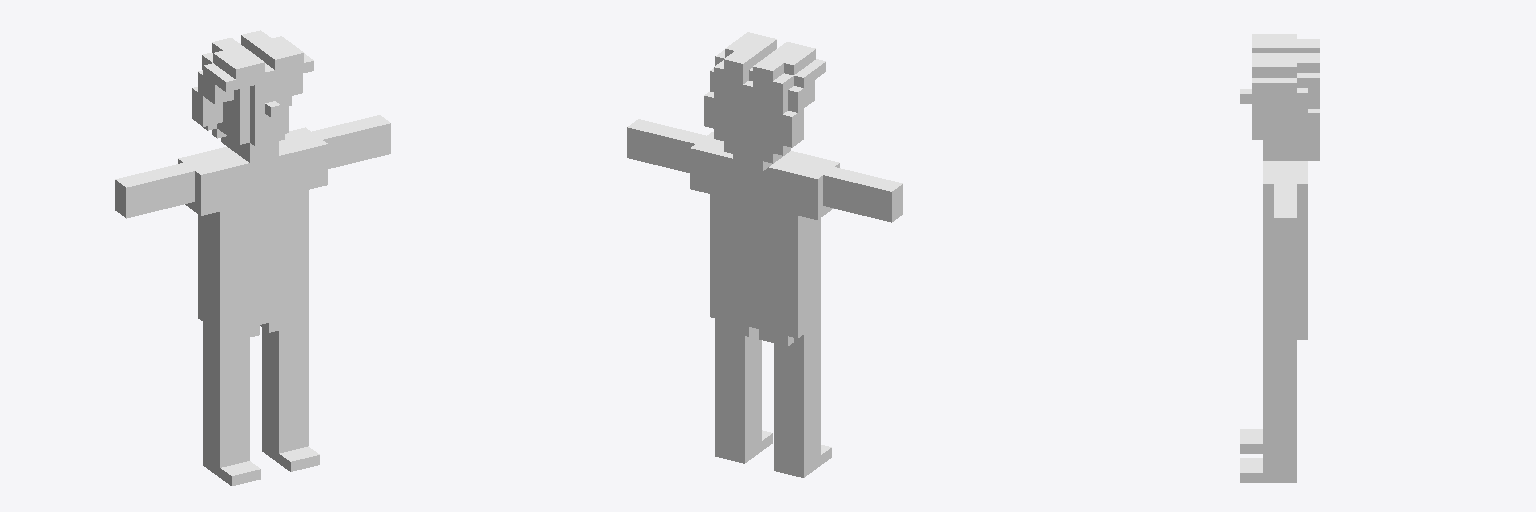
The model's file is CharacterText.obj.
3 renders of one model, left to right at view 1: azimuth 30°, elevation 25°; view 2: azimuth 150°, elevation 25°; view 3: azimuth 270°, elevation 25°, orthographic.
Parts seen in each view (by area): view 1: object 1; view 2: object 1; view 3: object 1.
Boxes of the visible parts, x1=… form: object 1: x1=115, y1=30, x2=390, y2=485; object 1: x1=627, y1=32, x2=902, y2=477; object 1: x1=1240, y1=34, x2=1319, y2=482.
Bounding box in the file's own units: 2.7 × 4 × 0.7.